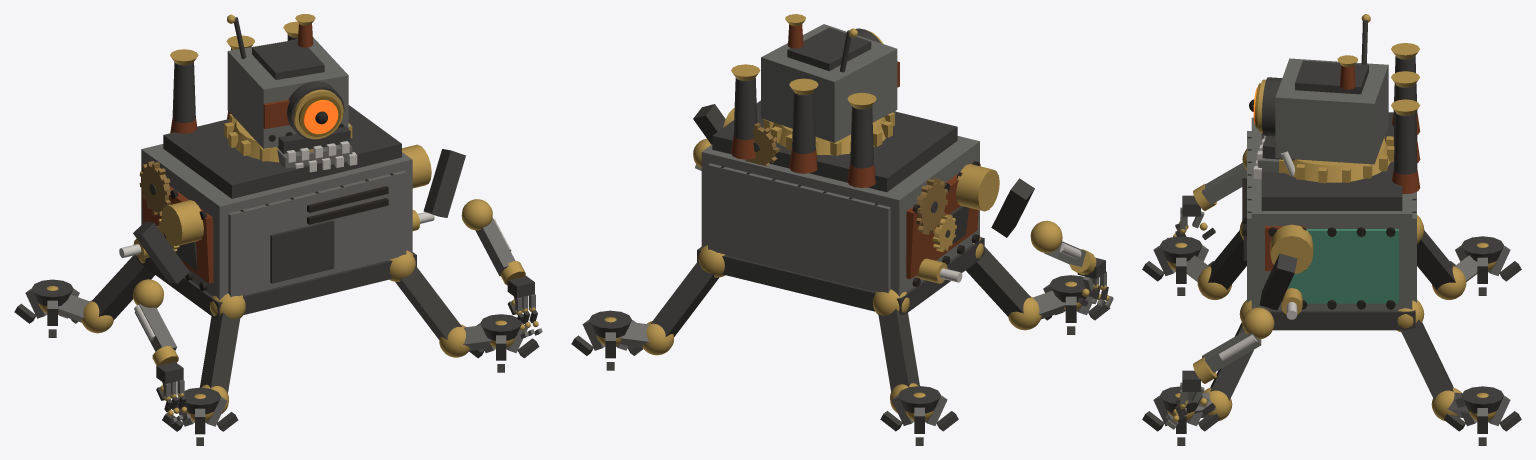
The model's file is midboss.glb.
3 views of the same model, side by side, from view 1: azimuth 30°, elevation 25°; view 2: azimuth 150°, elevation 25°; view 3: azimuth 270°, elevation 25° (orthographic). The views are drawn at different scales.
Parts seen in each view (by area): view 1: front_panel, top_deck, chassis_core, leg_upper (×3), turret_head, skid_plate, arm_upper (×2), front_hatch, arm_shoulder_housing (×2), foot_base (×3), turret_top_vent, arm_forearm (×2) (+17 smaller); view 2: back_panel, turret_head, chassis_core, leg_upper (×3), top_deck, skid_plate, foot_base (×3), left_dent_panel, turret_top_vent, arm_upper (×2), arm_shoulder_housing, gear_disc (×2) (+11 smaller); view 3: turret_head, right_copper_plate, chassis_core, leg_upper (×4), top_deck, foot_base (×4), skid_plate, leg_knee (×4), arm_forearm (×2), turret_top_vent, arm_shoulder_housing, exhaust_stack_2 (+14 smaller).
Part boxes in pixels (left/top/right/bottom): front_panel: left=228, top=170, right=406, bottom=297; top_deck: left=163, top=105, right=401, bottom=198; chassis_core: left=141, top=144, right=412, bottom=300; leg_upper (×3): left=91, top=255, right=461, bottom=393; turret_head: left=227, top=37, right=348, bottom=148; skid_plate: left=136, top=252, right=416, bottom=318; arm_upper (×2): left=133, top=149, right=465, bottom=283; front_hatch: left=270, top=220, right=334, bottom=283; arm_shoulder_housing (×2): left=161, top=144, right=431, bottom=246; foot_base (×3): left=31, top=279, right=521, bottom=414; turret_top_vent: left=252, top=39, right=324, bottom=79; arm_forearm (×2): left=134, top=217, right=515, bottom=351; back_panel: left=708, top=163, right=890, bottom=293; turret_head: left=761, top=24, right=897, bottom=142; chassis_core: left=701, top=136, right=979, bottom=296; leg_upper (×3): left=650, top=247, right=1030, bottom=391; top_deck: left=712, top=100, right=957, bottom=192; skid_plate: left=697, top=237, right=984, bottom=315; foot_base (×3): left=589, top=275, right=1086, bottom=413; left_dent_panel: left=906, top=163, right=980, bottom=279; turret_top_vent: left=787, top=27, right=871, bottom=70; arm_upper (×2): left=693, top=104, right=1034, bottom=237; arm_shoulder_housing: left=956, top=164, right=999, bottom=211; gear_disc (×2): left=746, top=127, right=945, bottom=230; turret_head: left=1275, top=58, right=1388, bottom=164; right_copper_plate: left=1280, top=229, right=1398, bottom=303; chassis_core: left=1251, top=117, right=1412, bottom=310; leg_upper (×4): left=1208, top=230, right=1455, bottom=401; top_deck: left=1261, top=112, right=1402, bottom=210; foot_base (×4): left=1160, top=236, right=1503, bottom=413; skid_plate: left=1248, top=310, right=1415, bottom=330; leg_knee (×4): left=1197, top=266, right=1466, bottom=421; arm_forearm (×2): left=1202, top=162, right=1261, bottom=372; turret_top_vent: left=1295, top=60, right=1368, bottom=94; arm_shoulder_housing: left=1270, top=224, right=1313, bottom=273; exhaust_stack_2: left=1393, top=112, right=1417, bottom=174.
Size of the model in its own units: 3.29 by 2.74 by 2.84.
